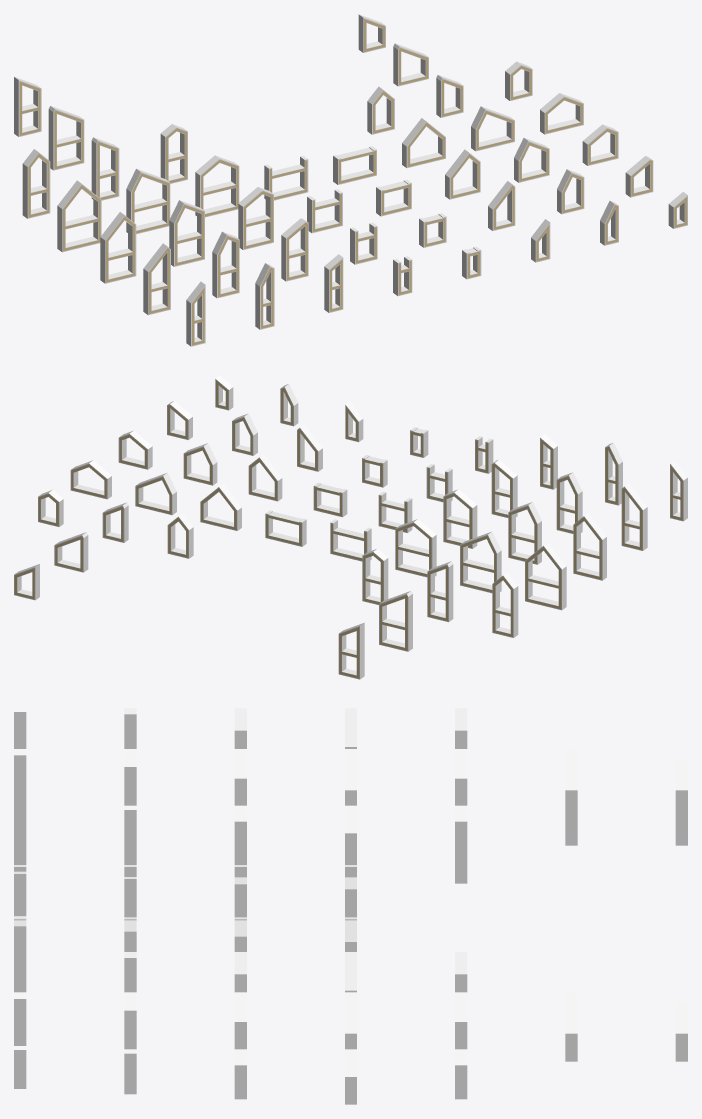
File: Toolbox_Stripmaker_WHAlm_v1.5_kaal-SU18.obj
The picture shows the model from 3 angles, top to bottom: view 1: azimuth 30°, elevation 25°; view 2: azimuth 150°, elevation 25°; view 3: azimuth 270°, elevation 25°; orthographic projection. The views are drawn at different scales.
Visible parts, largest first — view 1: Mesh95 Group28 Module_A2_02_1 Group1 Model, Mesh172 Group47 Module_A2_01_1 Group1 Model, Mesh204 Group54 Module_A2_05_1 Group1 Model, Mesh156 Group43 Module_B2_06_1 Group1 Model, Mesh175 Group48 Module_A2_01_1 Group1 Model, Mesh23 Group9 Module_A2_03_1 Group1 Model, Mesh215 Group57 Module_B2_05_1 Group1 Model, Mesh189 Group51 Module_C2_01_1 Group1 Model, Mesh281 Group75 Module_B2_01_1 Group1 Model, Mesh264 Group71 Module_B2_04_1 Group1 Model, Mesh251 Group68 Module_A2_04_1 Group1 Model, Mesh121 Group34 Module_C2_02_1 Group1 Model (+12 smaller); view 2: Mesh23 Group9 Module_A2_03_1 Group1 Model, Mesh172 Group47 Module_A2_01_1 Group1 Model, Mesh95 Group28 Module_A2_02_1 Group1 Model, Mesh175 Group48 Module_A2_01_1 Group1 Model, Mesh121 Group34 Module_C2_02_1 Group1 Model, Mesh156 Group43 Module_B2_06_1 Group1 Model, Mesh204 Group54 Module_A2_05_1 Group1 Model, Mesh189 Group51 Module_C2_01_1 Group1 Model, Mesh281 Group75 Module_B2_01_1 Group1 Model, Mesh300 Group79 Module_B2_07_1 Group1 Model, Mesh215 Group57 Module_B2_05_1 Group1 Model, Mesh91 Group27 Module_A2_02_1 Group1 Model (+5 smaller); view 3: Mesh156 Group43 Module_B2_06_1 Group1 Model, Mesh300 Group79 Module_B2_07_1 Group1 Model, Mesh163 Group45 Module_C2_05_1 Group1 Model, Mesh415 Group116 Module_B1_06_1 Group1 Model, Mesh55 Group16 Module_C2_03_1 Group1 Model, Mesh433 Group122 Module_B1_07_1 Group1 Model, Mesh121 Group34 Module_C2_02_1 Group1 Model, Mesh108 Group31 Module_C2_04_1 Group1 Model, Mesh264 Group71 Module_B2_04_1 Group1 Model, Mesh321 Group86 Module_B1_03_1 Group1 Model, Mesh306 Group81 Module_B1_05_1 Group1 Model, Mesh430 Group121 Module_B1_02_1 Group1 Model (+15 smaller).
Boxes of the visible parts, box(x1,y1,x2,y2) form: Mesh95 Group28 Module_A2_02_1 Group1 Model: box(100, 212, 136, 283); Mesh172 Group47 Module_A2_01_1 Group1 Model: box(57, 180, 101, 252); Mesh204 Group54 Module_A2_05_1 Group1 Model: box(22, 149, 50, 218); Mesh156 Group43 Module_B2_06_1 Group1 Model: box(48, 106, 84, 170); Mesh175 Group48 Module_A2_01_1 Group1 Model: box(63, 185, 100, 251); Mesh23 Group9 Module_A2_03_1 Group1 Model: box(143, 243, 170, 315); Mesh215 Group57 Module_B2_05_1 Group1 Model: box(91, 137, 119, 200); Mesh189 Group51 Module_C2_01_1 Group1 Model: box(195, 155, 239, 217); Mesh281 Group75 Module_B2_01_1 Group1 Model: box(126, 168, 170, 234); Mesh264 Group71 Module_B2_04_1 Group1 Model: box(255, 263, 274, 329); Mesh251 Group68 Module_A2_04_1 Group1 Model: box(186, 281, 205, 346); Mesh121 Group34 Module_C2_02_1 Group1 Model: box(238, 187, 273, 249); Mesh23 Group9 Module_A2_03_1 Group1 Model: box(621, 483, 647, 550); Mesh172 Group47 Module_A2_01_1 Group1 Model: box(525, 543, 566, 610); Mesh95 Group28 Module_A2_02_1 Group1 Model: box(573, 513, 606, 580); Mesh175 Group48 Module_A2_01_1 Group1 Model: box(525, 547, 561, 609); Mesh121 Group34 Module_C2_02_1 Group1 Model: box(443, 489, 477, 548); Mesh156 Group43 Module_B2_06_1 Group1 Model: box(379, 591, 412, 651); Mesh204 Group54 Module_A2_05_1 Group1 Model: box(492, 572, 518, 637); Mesh189 Group51 Module_C2_01_1 Group1 Model: box(395, 519, 436, 577); Mesh281 Group75 Module_B2_01_1 Group1 Model: box(460, 531, 501, 593); Mesh300 Group79 Module_B2_07_1 Group1 Model: box(338, 622, 364, 679); Mesh215 Group57 Module_B2_05_1 Group1 Model: box(427, 561, 453, 622); Mesh91 Group27 Module_A2_02_1 Group1 Model: box(574, 517, 601, 579); Mesh156 Group43 Module_B2_06_1 Group1 Model: box(565, 749, 577, 845); Mesh300 Group79 Module_B2_07_1 Group1 Model: box(675, 758, 687, 845); Mesh163 Group45 Module_C2_05_1 Group1 Model: box(455, 805, 467, 883); Mesh415 Group116 Module_B1_06_1 Group1 Model: box(565, 992, 577, 1061); Mesh55 Group16 Module_C2_03_1 Group1 Model: box(124, 805, 136, 864); Mesh433 Group122 Module_B1_07_1 Group1 Model: box(675, 1002, 687, 1061); Mesh121 Group34 Module_C2_02_1 Group1 Model: box(234, 805, 246, 864); Mesh108 Group31 Module_C2_04_1 Group1 Model: box(14, 806, 26, 864); Mesh264 Group71 Module_B2_04_1 Group1 Model: box(14, 749, 26, 806); Mesh321 Group86 Module_B1_03_1 Group1 Model: box(124, 992, 136, 1049); Mesh306 Group81 Module_B1_05_1 Group1 Model: box(455, 992, 467, 1049); Mesh430 Group121 Module_B1_02_1 Group1 Model: box(234, 992, 246, 1049).
Bounding box in the file's own units: 75.7 × 8.85 × 66.
